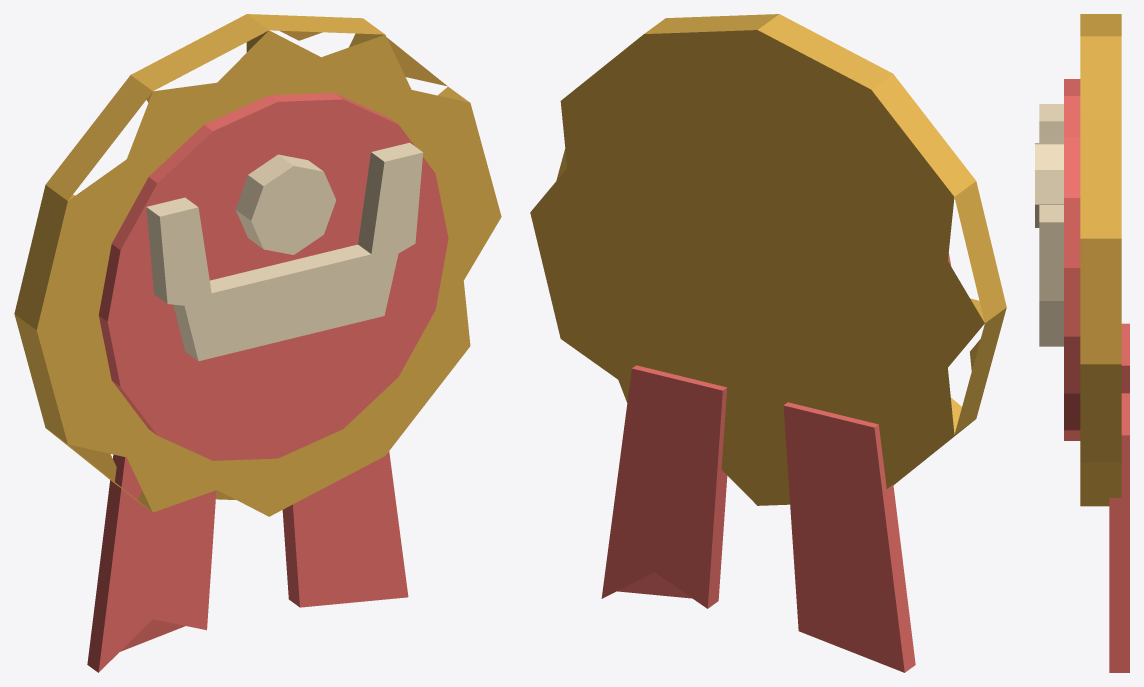
File: badge_best_save.glb
3 views of the same model, side by side, from view 1: azimuth 30°, elevation 25°; view 2: azimuth 150°, elevation 25°; view 3: azimuth 270°, elevation 25° (orthographic). The views are drawn at different scales.
Visible parts, largest first — view 1: badge, ribbon; view 2: badge, ribbon; view 3: badge, ribbon.
Boxes of the visible parts, bbox=[...] form: badge: bbox=[14, 14, 501, 516]; ribbon: bbox=[87, 451, 408, 672]; badge: bbox=[530, 14, 1006, 505]; ribbon: bbox=[601, 365, 915, 672]; badge: bbox=[1035, 14, 1121, 506]; ribbon: bbox=[1109, 323, 1129, 672].
Bounding box in the file's own units: 0.06 × 0.076 × 0.0115.
